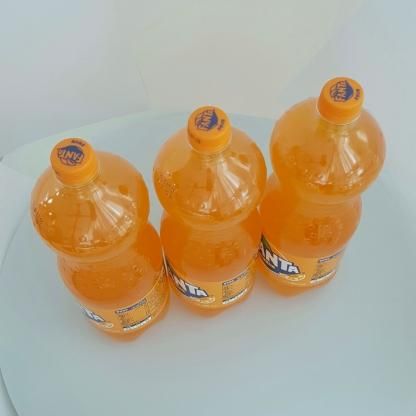-------1-5L: (251, 77, 386, 297), (30, 138, 170, 342), (152, 106, 267, 318)
